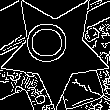O_E: (31, 28, 79, 71)
